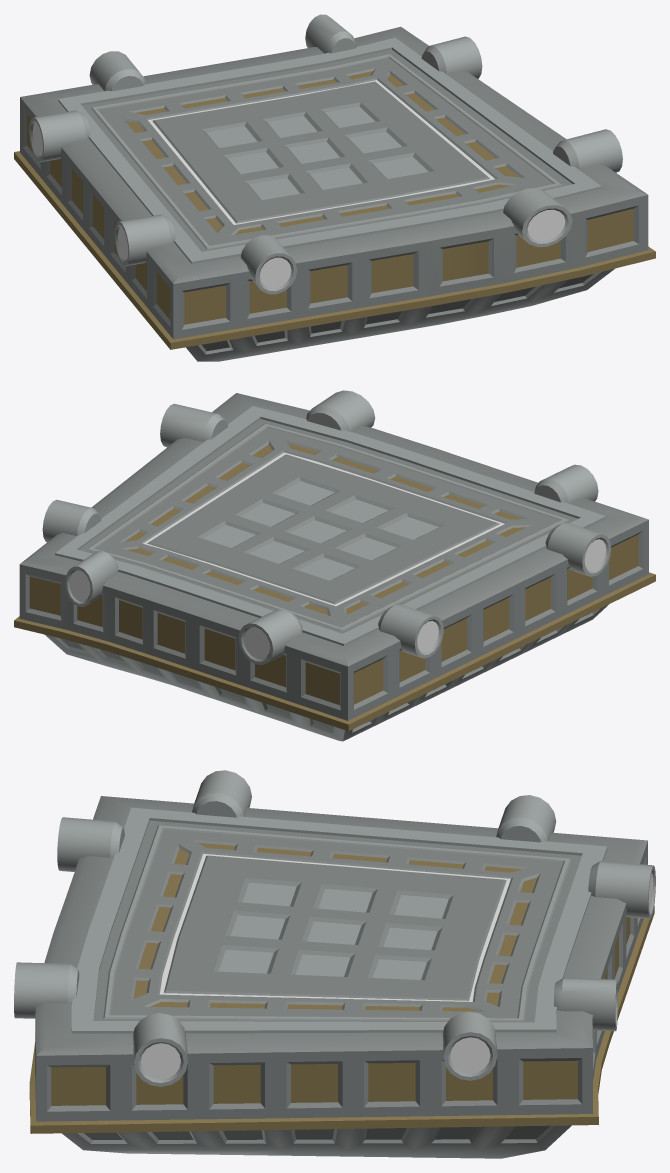
File: Path test.fbx
The picture shows the model from 3 angles, top to bottom: view 1: azimuth 30°, elevation 25°; view 2: azimuth 150°, elevation 25°; view 3: azimuth 270°, elevation 25°; orthographic projection. The views are drawn at different scales.
Visible parts, largest first — view 1: Platform; view 2: Platform; view 3: Platform.
Boxes of the visible parts, <box> form: Platform: <box>14,14,655,361</box>; Platform: <box>14,390,655,741</box>; Platform: <box>14,770,655,1158</box>.
Bounding box in the file's own units: 239 × 69.26 × 238.
